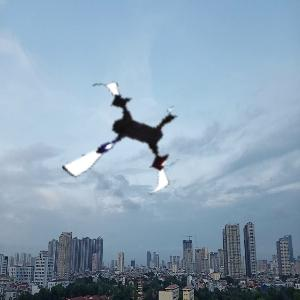drone: (58, 76, 191, 209)
